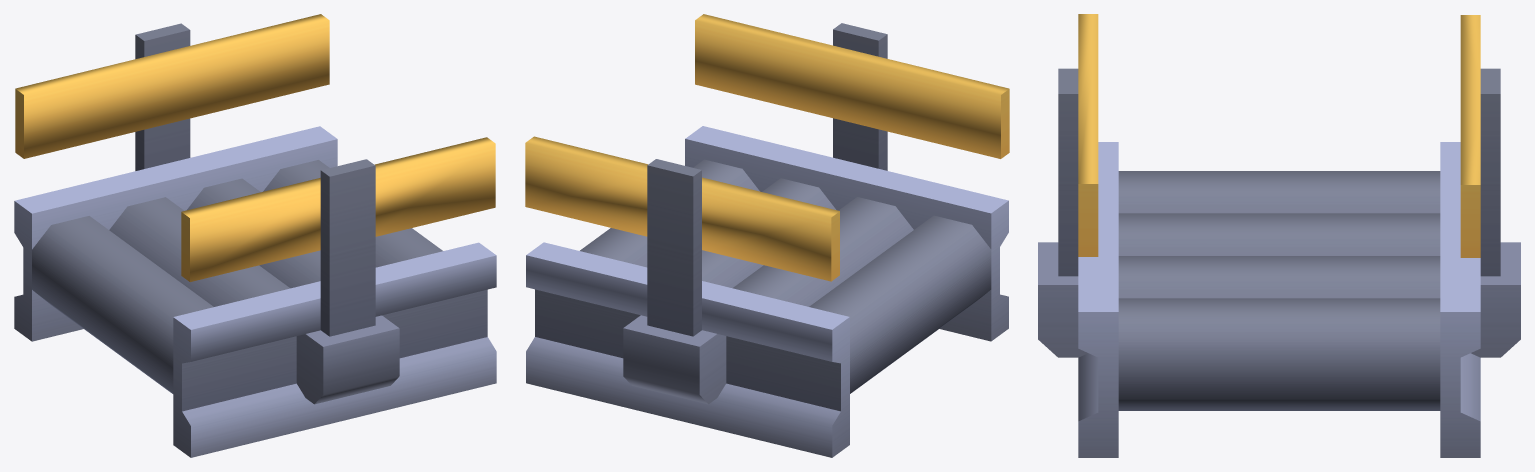
3 views of the same model, side by side, from view 1: azimuth 30°, elevation 25°; view 2: azimuth 150°, elevation 25°; view 3: azimuth 270°, elevation 25° (orthographic). The views are drawn at different scales.
Parts seen in each view (by area): view 1: Group, Group_1, Group_2; view 2: Group, Group_1, Group_2; view 3: Group_2, Group, Group_1.
Part boxes in pixels (<box>): Group: <box>15,14,495,404</box>; Group_1: <box>14,126,496,457</box>; Group_2: <box>32,160,442,393</box>; Group: <box>525,14,1009,404</box>; Group_1: <box>526,126,1008,457</box>; Group_2: <box>580,159,991,393</box>; Group_2: <box>1118,171,1440,410</box>; Group: <box>1038,14,1520,357</box>; Group_1: <box>1078,142,1480,457</box>.
Bounding box in the file's own units: 1.01 × 0.8 × 1.2.
Materials: 1 (1 with a texture image).
